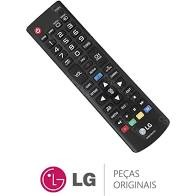remote control: (12, 0, 196, 158)
